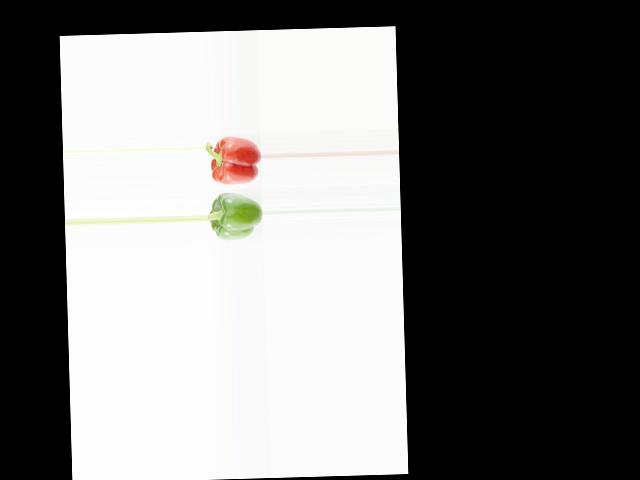bell_pepper: (207, 189, 261, 242)
